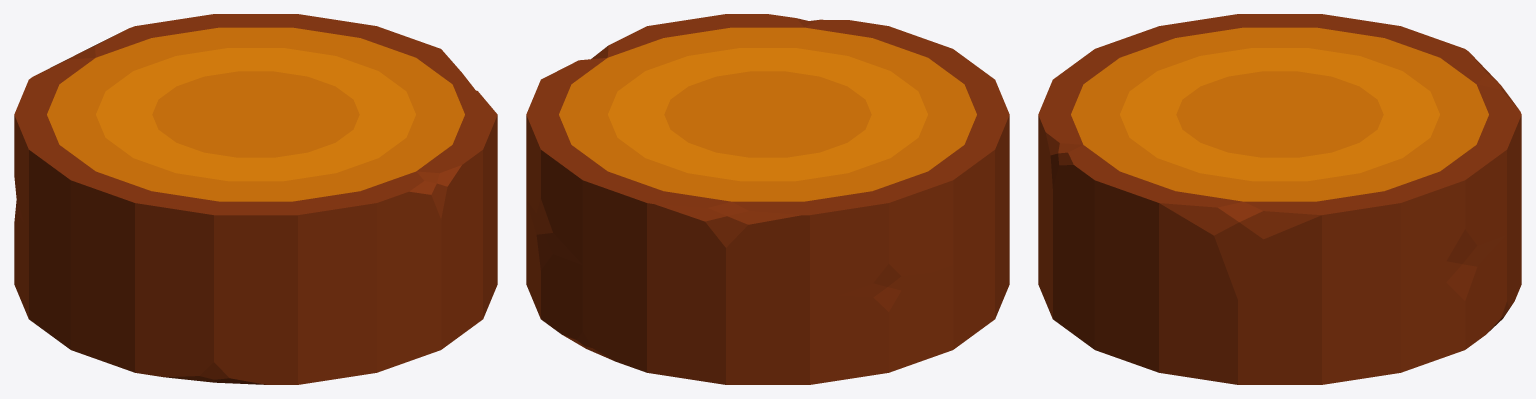
The model's file is Tree log_8.fbx.
The picture shows the model from 3 angles, left to right: view 1: azimuth 30°, elevation 25°; view 2: azimuth 150°, elevation 25°; view 3: azimuth 270°, elevation 25°; orthographic projection.
Visible parts, largest first — view 1: Circle.004; view 2: Circle.004; view 3: Circle.004.
Boxes of the visible parts, <box> form: Circle.004: <box>14,14,497,384</box>; Circle.004: <box>526,14,1009,384</box>; Circle.004: <box>1038,14,1521,384</box>.
Bounding box in the file's own units: 23.2 × 9.13 × 23.56.
